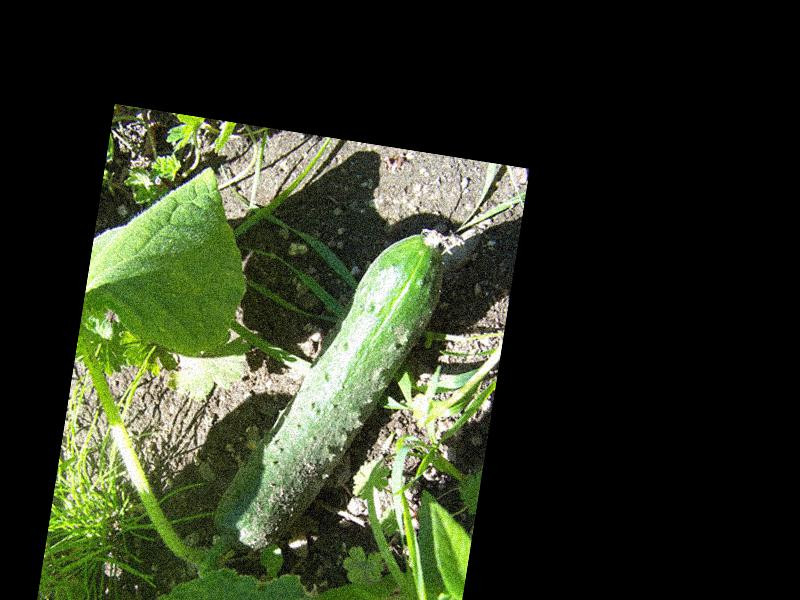Cucumber: (208, 204, 450, 578)
